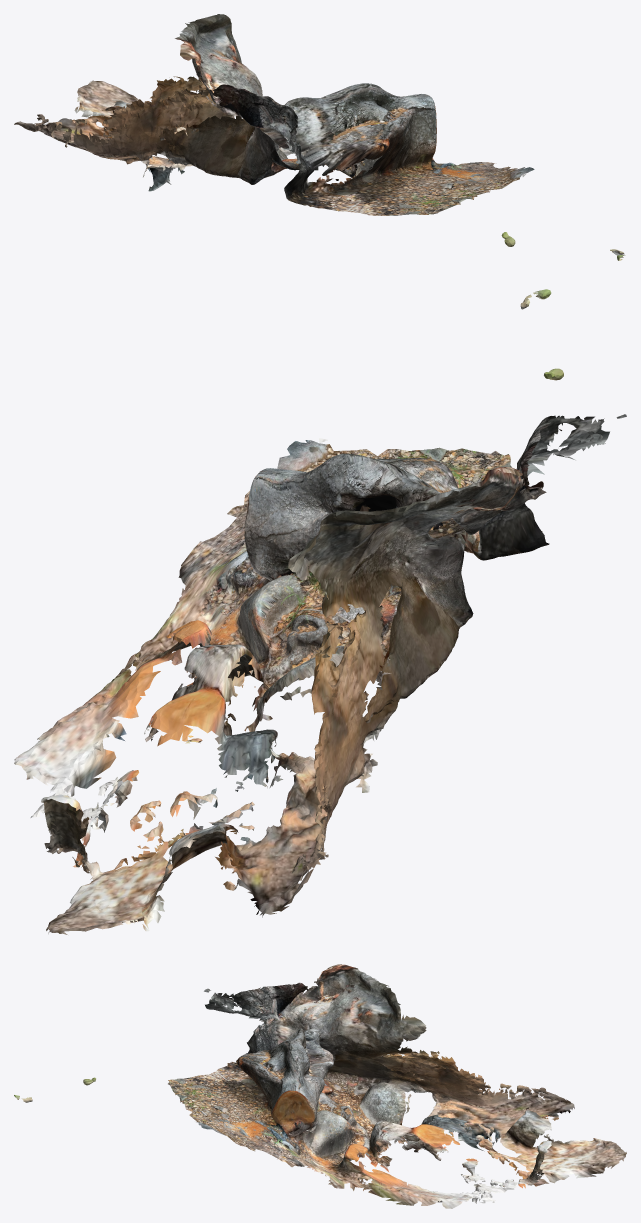
File: metascan_20230505-1203.obj
3 views of the same model, one above another, from view 1: azimuth 30°, elevation 25°; view 2: azimuth 150°, elevation 25°; view 3: azimuth 270°, elevation 25° (orthographic). The views are drawn at different scales.
Visible parts, largest first — view 1: mesh_0; view 2: mesh_0; view 3: mesh_0.
Boxes of the visible parts, x1,y1,x2,y2 form: mesh_0: (14,14,625,260); mesh_0: (14,289,626,934); mesh_0: (14,964,626,1208).
Bounding box in the file's own units: 2.89 × 2.41 × 7.9.
1 material, 1 textured.
